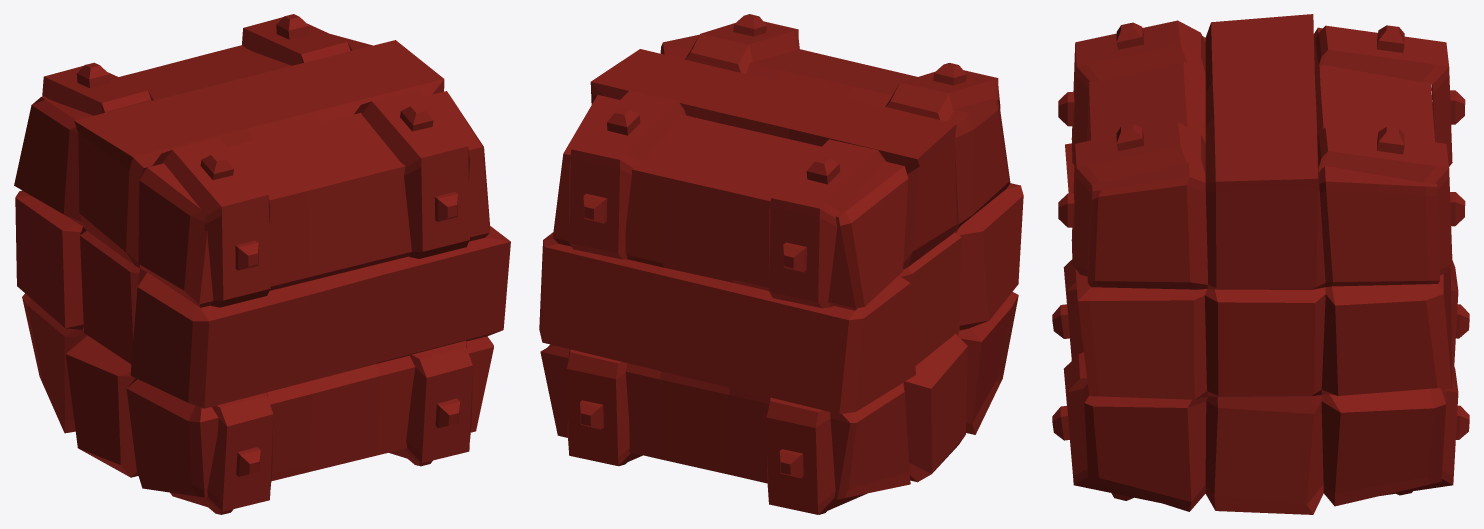
Rendered from L_Wooden.fbx.
3 renders of one model, left to right at view 1: azimuth 30°, elevation 25°; view 2: azimuth 150°, elevation 25°; view 3: azimuth 270°, elevation 25°, orthographic. The views are drawn at different scales.
Parts seen in each view (by area): view 1: Wood.014; view 2: Wood.014; view 3: Wood.014.
Part boxes in pixels (bbox=[...]): Wood.014: bbox=[14, 14, 510, 514]; Wood.014: bbox=[539, 14, 1023, 514]; Wood.014: bbox=[1052, 14, 1469, 514].
Size of the model in its own units: 194 by 195 by 199.
